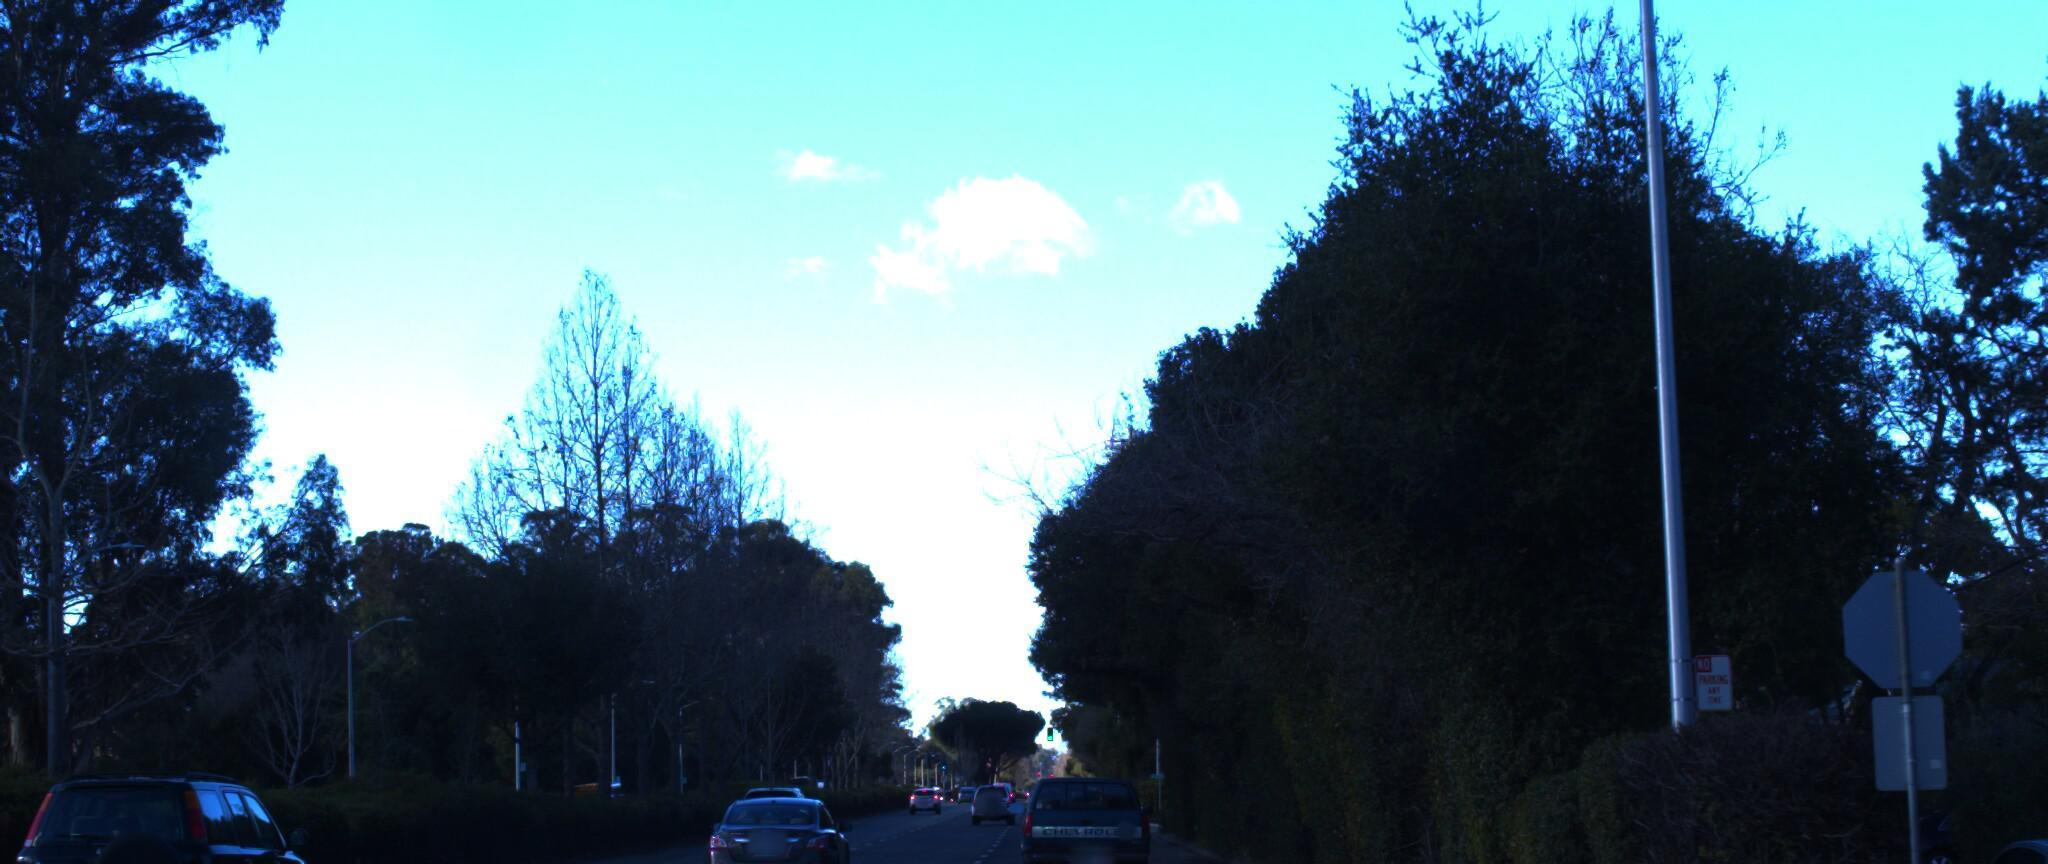car: (0, 731, 350, 864), (1004, 754, 1174, 864), (691, 782, 852, 864), (1912, 820, 2048, 864)
